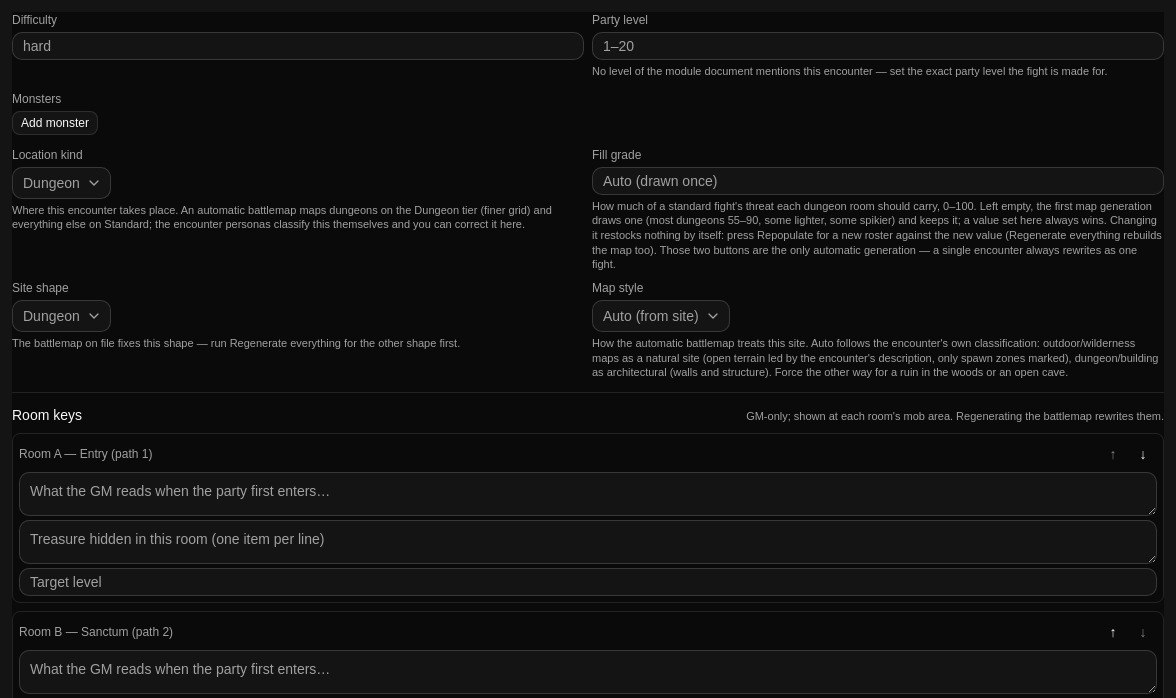
Test case: encounter form site shape, path reorder and target levels (docs/11 D11/D12) › reorders the dungeon path from the Room Keys section without touching the rooms array
Expected: the text with test id "room-key-label-0" reads "Room A — Entry (path 1)", [19,446,152,462]
Expected: the text with test id "room-key-label-1" reads "Room B — Sanctum (path 2)", [19,624,173,640]
Click the button with test id "room-move-down-0" at (1143, 454), box [1129,440,1157,468]
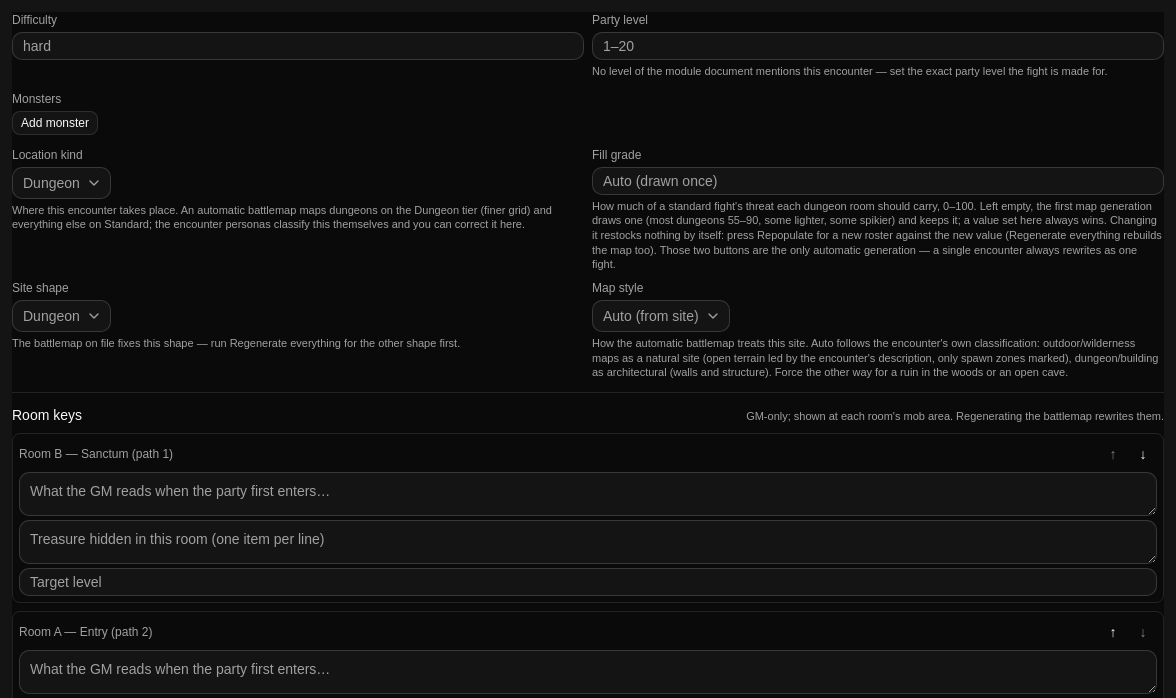
Expected: the text with test id "room-key-label-0" reads "Room B — Sanctum (path 1)", [19,446,173,462]
Expected: the text with test id "room-key-label-1" reads "Room A — Entry (path 2)", [19,624,152,640]
